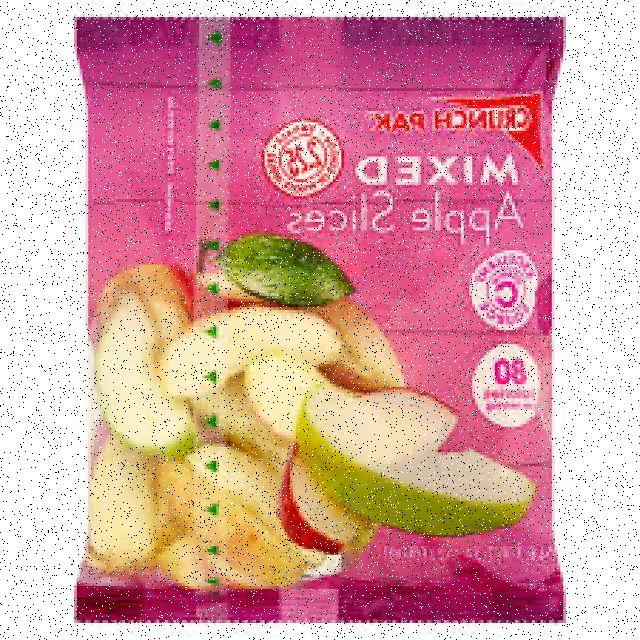Apple: (284, 391, 540, 523), (153, 304, 338, 404), (98, 295, 179, 460), (233, 351, 334, 422), (95, 449, 155, 565), (179, 454, 281, 517), (159, 540, 207, 580)
